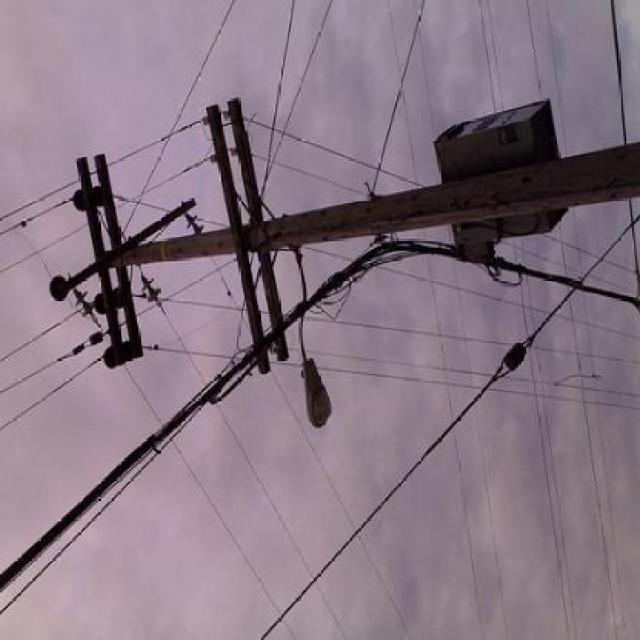pole: (44, 62, 636, 387)
